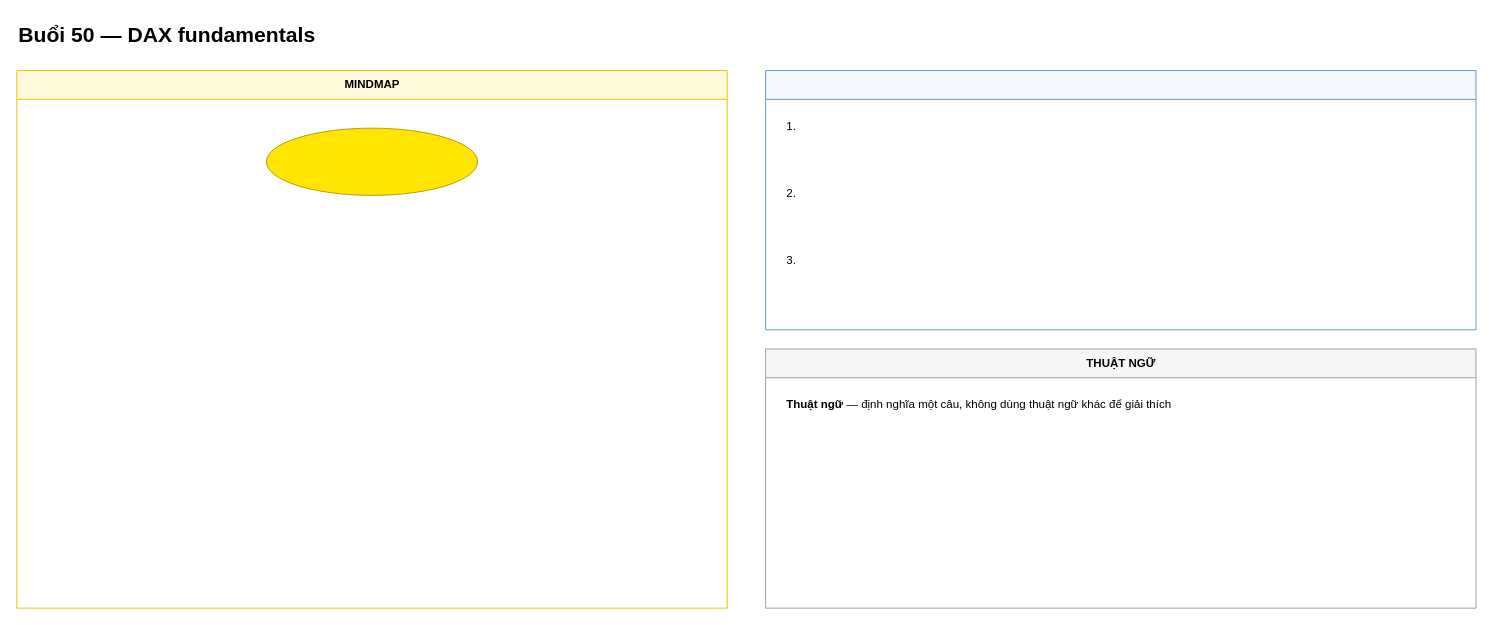
This 1493x625 diagram has some shape labels left out. Here are the shapes that lost their labels. From the top down, the box of each, then its label:
(265, 127, 478, 195): DAX fundamentals
(765, 70, 1476, 330): KEY TAKEAWAY — ba điều phải nhớ
